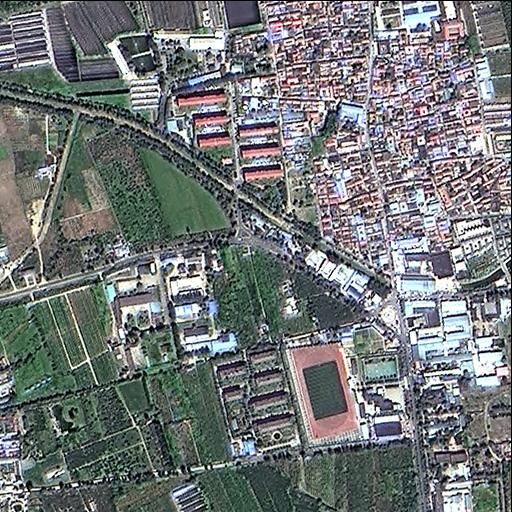school: (285, 339, 409, 450)
